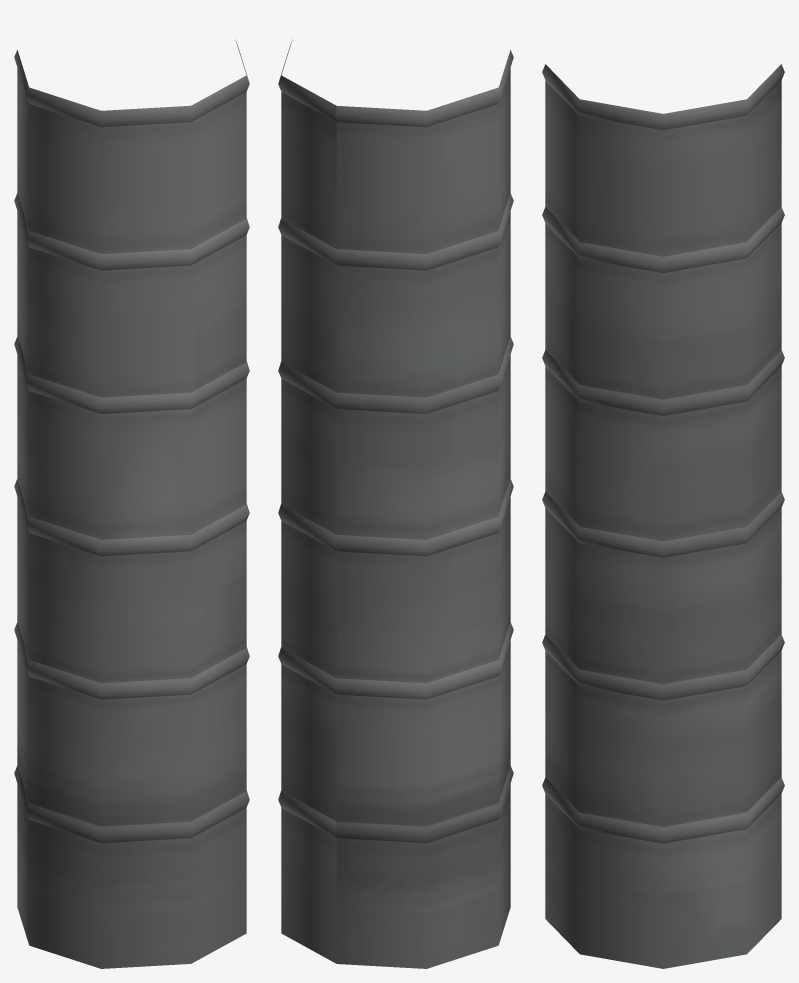
3 renders of one model, left to right at view 1: azimuth 30°, elevation 25°; view 2: azimuth 150°, elevation 25°; view 3: azimuth 270°, elevation 25°, orthographic.
Parts seen in each view (by area): view 1: body0_model0_lod0_mesh0; view 2: body0_model0_lod0_mesh0; view 3: body0_model0_lod0_mesh0.
Boxes of the visible parts, x1=… form: body0_model0_lod0_mesh0: x1=14, y1=39, x2=249, y2=968; body0_model0_lod0_mesh0: x1=278, y1=39, x2=513, y2=968; body0_model0_lod0_mesh0: x1=542, y1=64, x2=784, y2=968.
Bounding box in the file's own units: 16.49 × 64 × 16.47.
1 material, 1 textured.
